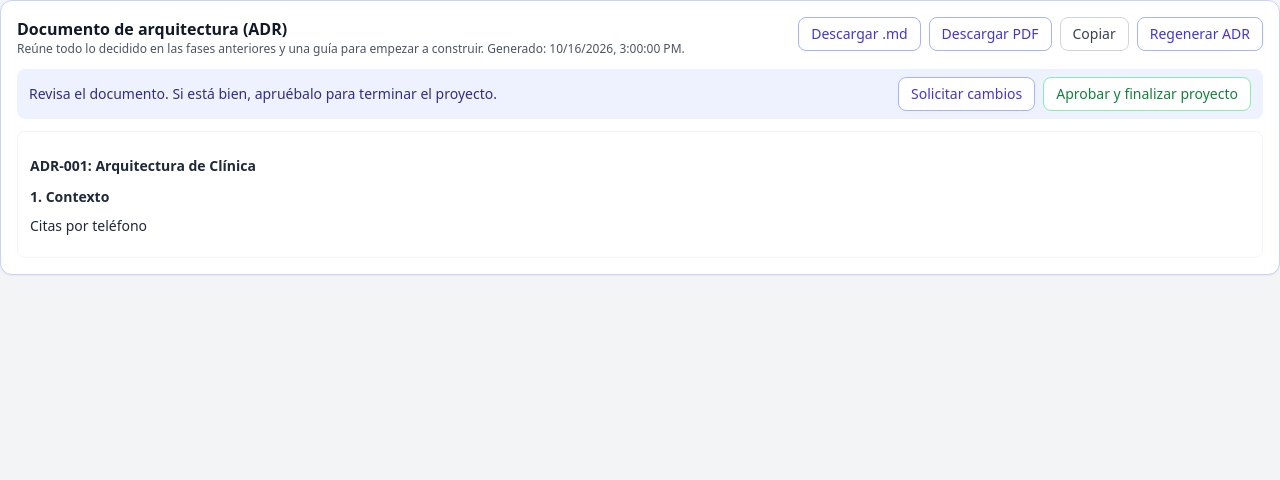
Scenario: AdrPanel › solicitar cambios regenera el ADR con lo pedido
Click the button with test id "adr-request-changes" at [967, 94], box 898,77 -> 1035,111
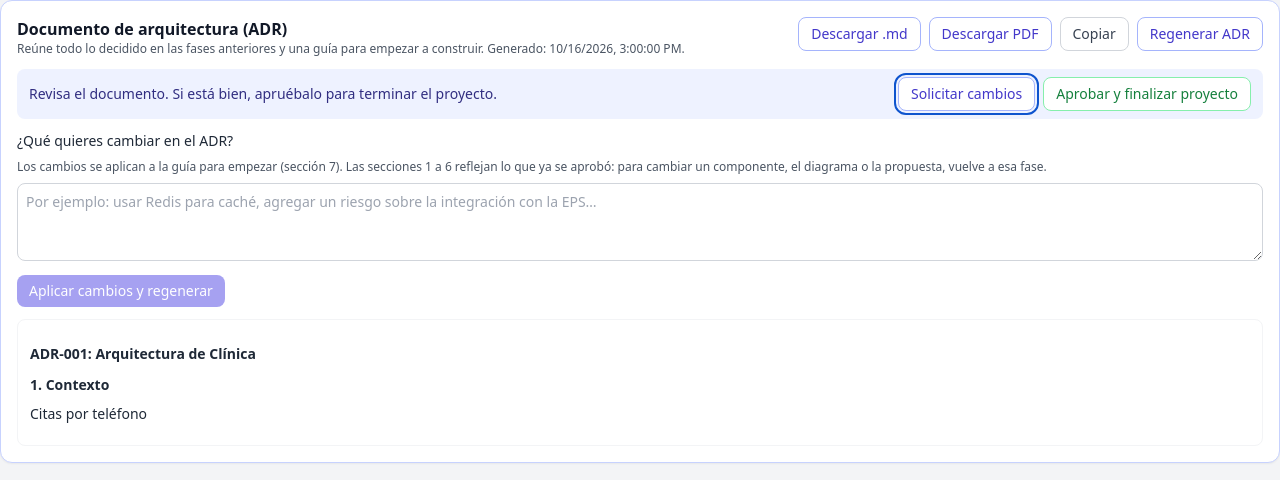
Type "Usar Redis" into the text box labelled "¿Qué quieres cambiar en el ADR?" at [640, 222], box 17,183 -> 1263,261
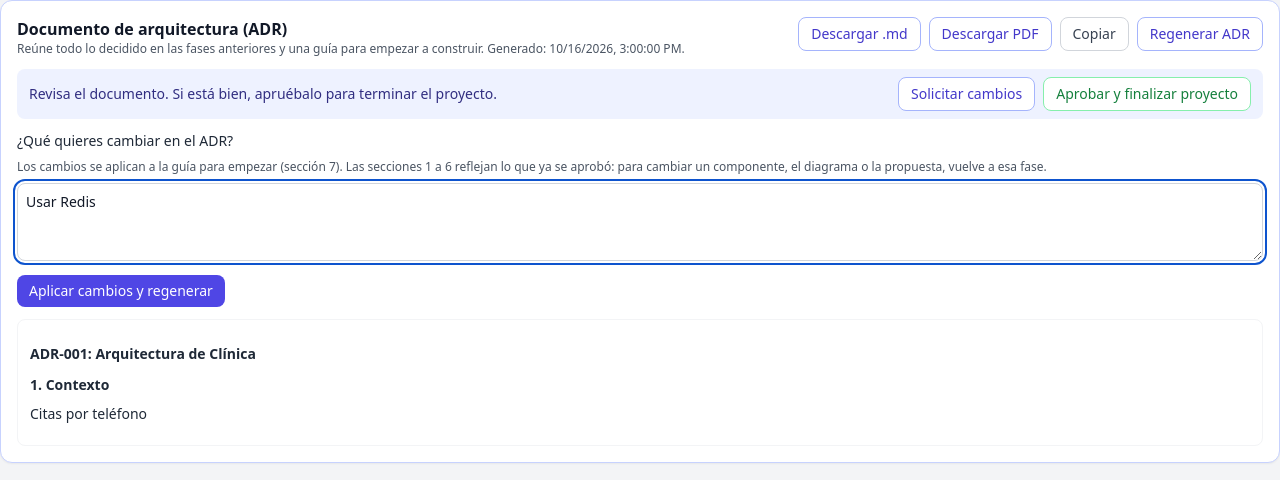
Click the button with test id "adr-send-changes" at [121, 291], box 17,275 -> 225,307
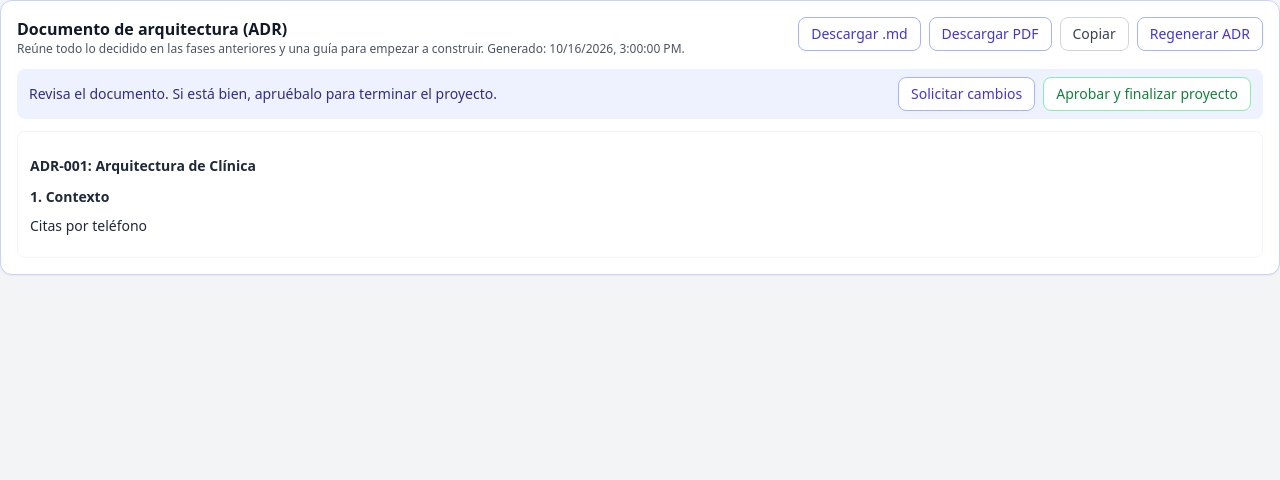
Expected: the element with test id "adr-changes-form" is gone
